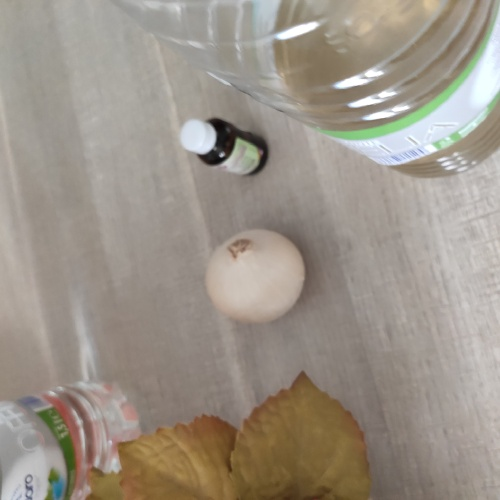cipolla: (198, 223, 314, 333)
